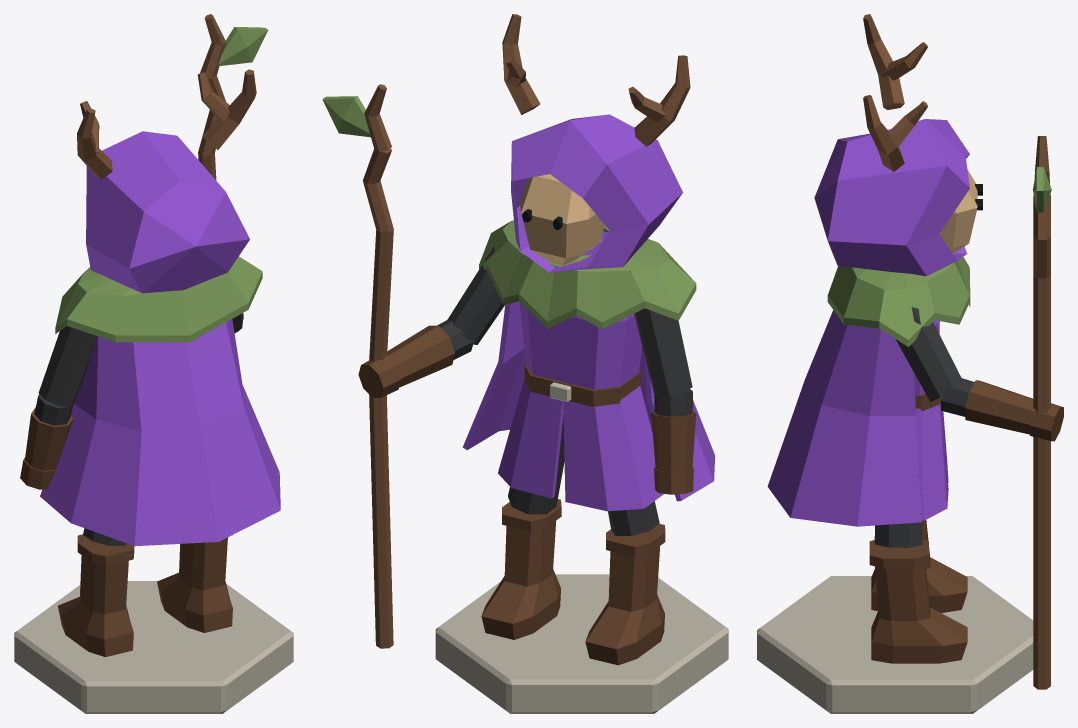
The model's file is human_druid_t3.glb.
3 views of the same model, side by side, from view 1: azimuth 30°, elevation 25°; view 2: azimuth 150°, elevation 25°; view 3: azimuth 270°, elevation 25° (orthographic). The views are drawn at different scales.
Parts seen in each view (by area): view 1: Caster_Short_Back_Cape, Foundation_Hexagonal_Stone, Pointed_Open_Hood_Shell, One_Connected_Green_Leaf_Mantle, Boot_-1, Boot_1, left_upper_sleeve, left_bracer, Right_Two_End_Antler_Main, Druid_One_Broad_Green_Staff_Leaf, Left_Two_End_Antler_Main, Boot_Cuff_-1 (+5 smaller); view 2: Foundation_Hexagonal_Stone, Pointed_Open_Hood_Shell, One_Connected_Green_Leaf_Mantle, Druid_One_Crooked_Oak_Staff_Shaft, Continuous_Tunic_Bodice, Continuous_Split_Tunic_Skirt, Boot_-1, Boot_1, Caster_Short_Back_Cape, Angular_Face, Split_Tunic_Front_1, Split_Tunic_Front_-1 (+17 smaller); view 3: Caster_Short_Back_Cape, Foundation_Hexagonal_Stone, Pointed_Open_Hood_Shell, Druid_One_Crooked_Oak_Staff_Shaft, One_Connected_Green_Leaf_Mantle, Boot_1, Continuous_Split_Tunic_Skirt, right_upper_sleeve, right_bracer, Boot_-1, Left_Two_End_Antler_Main, Angular_Face (+8 smaller).
Part boxes in pixels (box(x1,y1,x2,y2)): Caster_Short_Back_Cape: box(40, 319, 280, 546); Foundation_Hexagonal_Stone: box(14, 581, 293, 713); Pointed_Open_Hood_Shell: box(86, 131, 249, 293); One_Connected_Green_Leaf_Mantle: box(55, 256, 262, 342); Boot_-1: box(58, 555, 133, 657); Boot_1: box(157, 537, 232, 632); left_upper_sleeve: box(38, 326, 96, 407); left_bracer: box(24, 407, 73, 471); Right_Two_End_Antler_Main: box(203, 69, 256, 149); Druid_One_Broad_Green_Staff_Leaf: box(218, 27, 268, 65); Left_Two_End_Antler_Main: box(77, 108, 112, 179); Boot_Cuff_-1: box(77, 534, 134, 565); Foundation_Hexagonal_Stone: box(435, 574, 728, 713); Pointed_Open_Hood_Shell: box(511, 114, 682, 272); One_Connected_Green_Leaf_Mantle: box(479, 220, 696, 329); Druid_One_Crooked_Oak_Staff_Shaft: box(363, 148, 393, 648); Continuous_Tunic_Bodice: box(519, 302, 642, 389); Continuous_Split_Tunic_Skirt: box(498, 379, 663, 511); Boot_-1: box(585, 546, 664, 665); Boot_1: box(481, 521, 560, 639); Caster_Short_Back_Cape: box(462, 301, 715, 501); Angular_Face: box(520, 174, 604, 265); Split_Tunic_Front_1: box(510, 391, 563, 498); Split_Tunic_Front_-1: box(563, 401, 608, 511); Caster_Short_Back_Cape: box(767, 310, 921, 526); Foundation_Hexagonal_Stone: box(757, 576, 1033, 713); Pointed_Open_Hood_Shell: box(814, 119, 969, 276); Druid_One_Crooked_Oak_Staff_Shaft: box(1033, 195, 1050, 689); One_Connected_Green_Leaf_Mantle: box(827, 252, 970, 346); Boot_1: box(871, 566, 967, 663); Continuous_Split_Tunic_Skirt: box(916, 404, 946, 520); right_upper_sleeve: box(895, 307, 961, 402); right_bracer: box(965, 380, 1034, 434); Boot_-1: box(871, 520, 967, 612); Left_Two_End_Antler_Main: box(863, 14, 904, 109); Angular_Face: box(939, 169, 977, 253).
Size of the model in its own units: 1.13 by 2.14 by 0.983.
